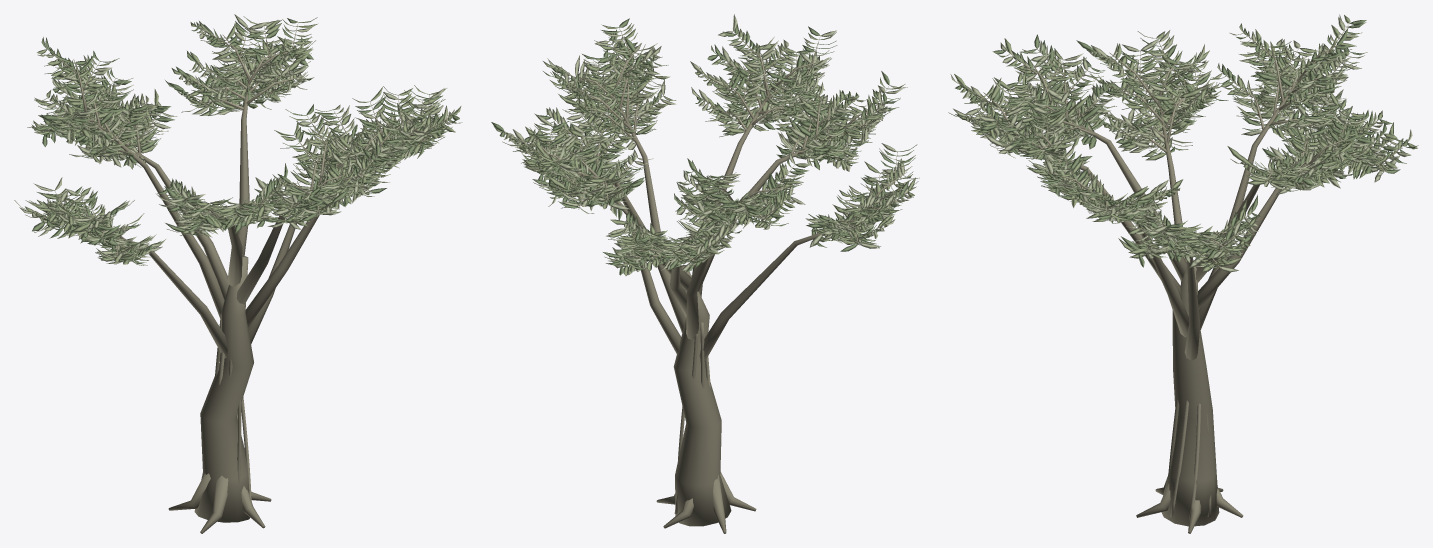
Rendered from SM_OliveTree.fbx.
The picture shows the model from 3 angles, left to right: view 1: azimuth 30°, elevation 25°; view 2: azimuth 150°, elevation 25°; view 3: azimuth 270°, elevation 25°; orthographic projection. The views are drawn at different scales.
Parts seen in each view (by area): view 1: SM_OliveTree; view 2: SM_OliveTree; view 3: SM_OliveTree.
Boxes of the visible parts, x1,y1,x2,y2 form: SM_OliveTree: (14,14,462,533); SM_OliveTree: (491,14,919,533); SM_OliveTree: (948,14,1418,533).
Size of the model in its own units: 367 by 364 by 383.
